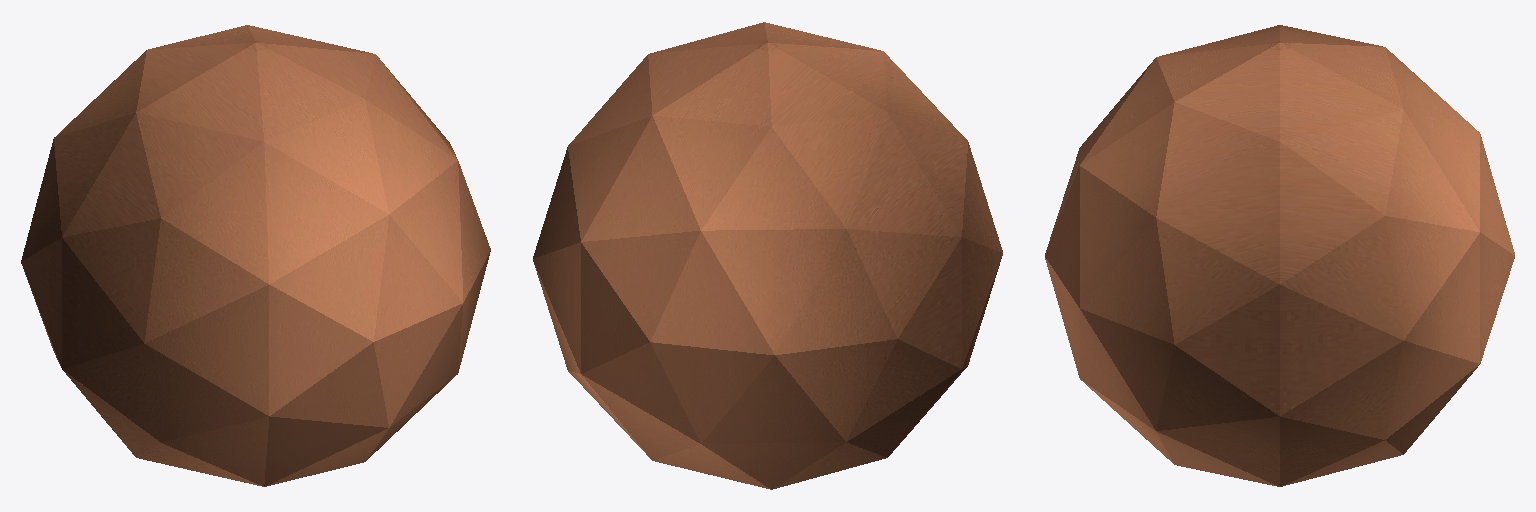
3 views of the same model, side by side, from view 1: azimuth 30°, elevation 25°; view 2: azimuth 150°, elevation 25°; view 3: azimuth 270°, elevation 25° (orthographic).
Parts seen in each view (by area): view 1: GeoSphere001; view 2: GeoSphere001; view 3: GeoSphere001.
Boxes of the visible parts, box(x1,y1,x2,y2) form: GeoSphere001: box(21, 25, 490, 486); GeoSphere001: box(533, 22, 1002, 489); GeoSphere001: box(1045, 25, 1514, 486).
Bounding box in the file's own units: 4.71 × 4.95 × 4.95.
1 materials, 1 textured.